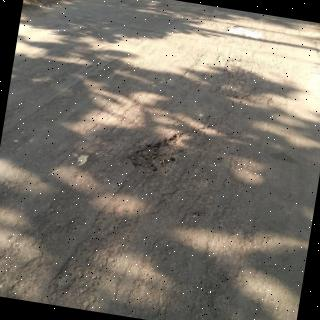pothole: (132, 133, 211, 172)
